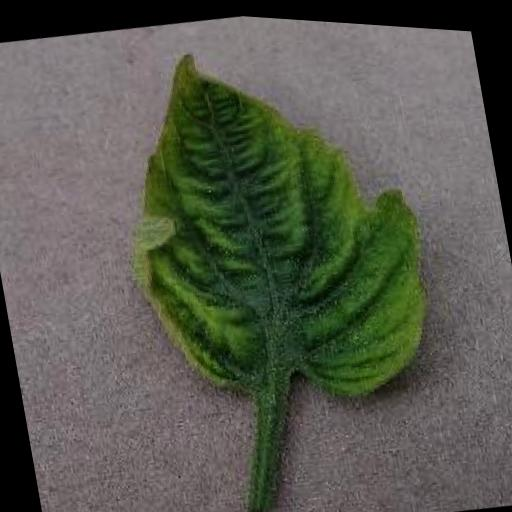Yellow Leaf Curl Virus: (98, 9, 446, 434)
